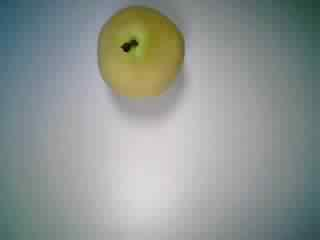pear: (85, 3, 193, 101)
